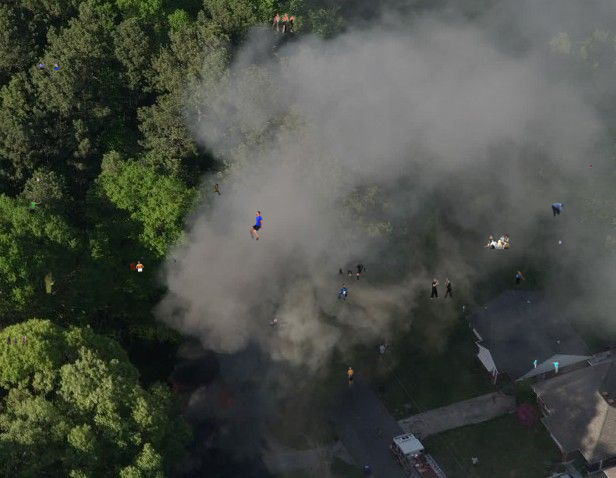Human: (246, 211, 263, 241), (484, 231, 512, 249), (323, 282, 349, 301), (339, 263, 366, 281), (430, 278, 453, 299), (272, 13, 295, 34), (533, 359, 559, 373), (269, 318, 292, 331), (479, 393, 498, 407), (6, 334, 28, 346), (44, 271, 54, 293), (551, 203, 565, 217), (29, 199, 42, 213), (39, 62, 60, 70), (130, 261, 144, 272), (347, 367, 354, 387), (516, 271, 525, 285), (214, 183, 221, 195), (411, 454, 418, 458), (37, 178, 43, 182), (174, 256, 178, 262), (463, 306, 466, 312), (443, 338, 451, 340), (78, 101, 80, 108), (141, 256, 144, 260), (559, 240, 562, 244), (94, 457, 97, 460), (590, 165, 592, 169), (214, 102, 215, 105), (239, 390, 240, 392)
